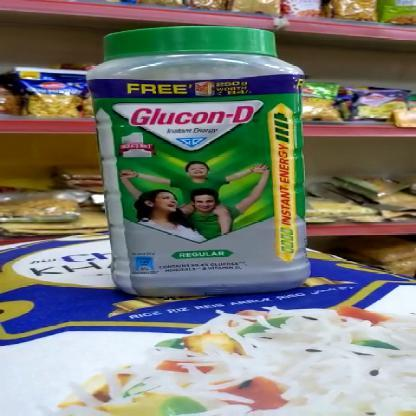Glucon D Regular 2-KG: (96, 27, 302, 296)
